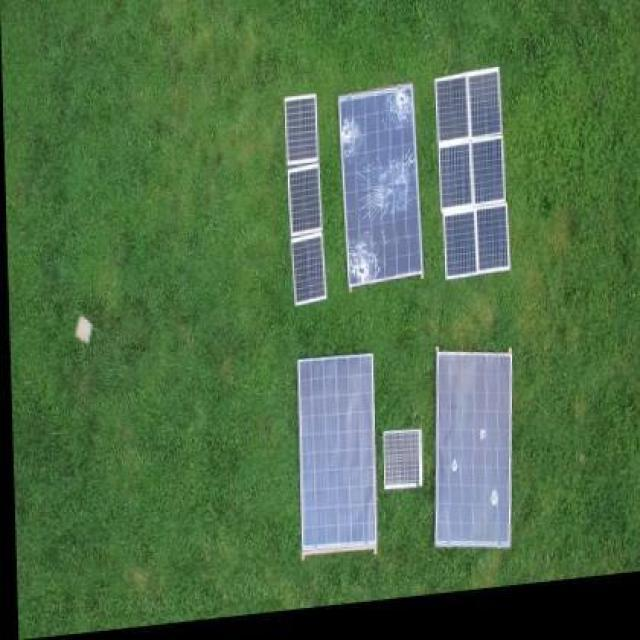cracked: (335, 83, 425, 290)
soiled: (436, 349, 512, 553)
